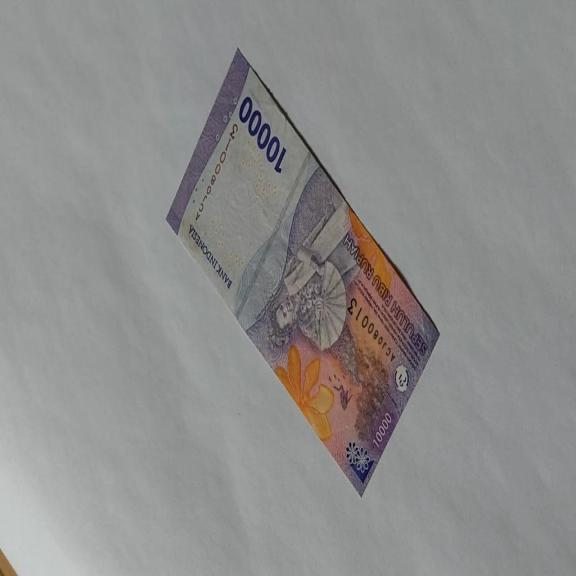Kertas: (165, 46, 441, 498), (238, 94, 287, 174)
